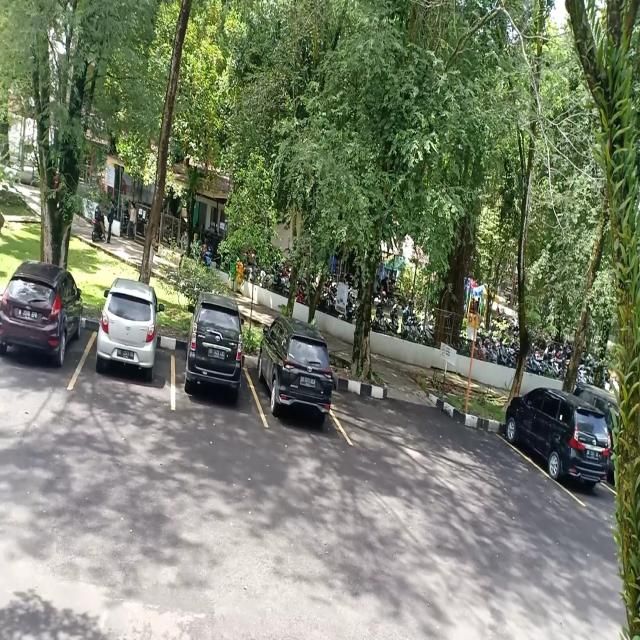occupied: (501, 384, 614, 493), (86, 300, 174, 402), (0, 293, 85, 392), (172, 319, 257, 413), (256, 340, 340, 430)
